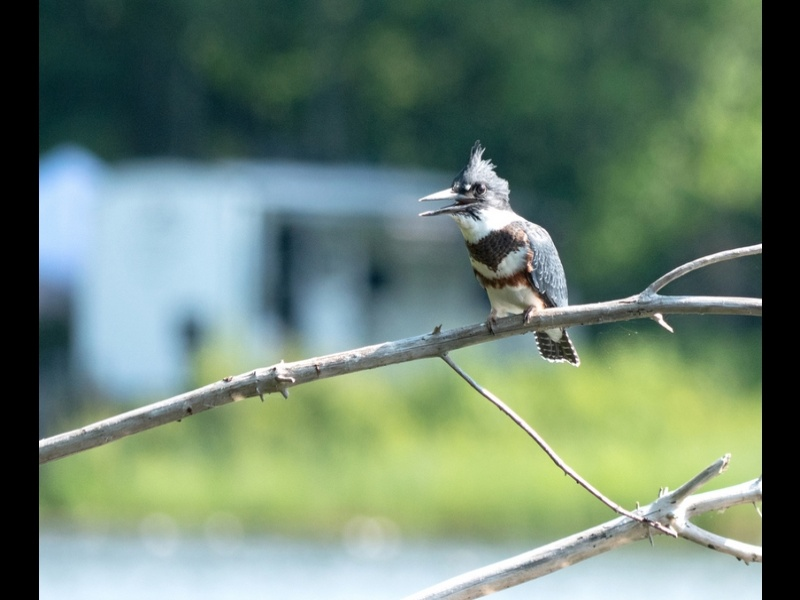kingfisher: (416, 139, 584, 369)
